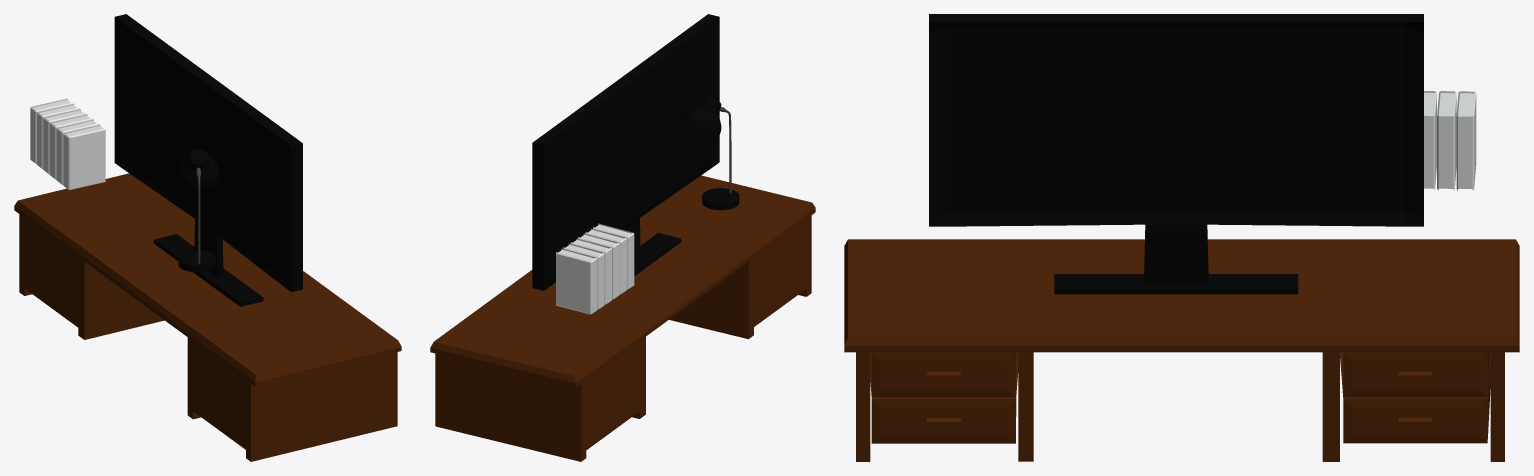
Rendered from tvtable.fbx.
3 renders of one model, left to right at view 1: azimuth 30°, elevation 25°; view 2: azimuth 150°, elevation 25°; view 3: azimuth 270°, elevation 25°, orthographic. The views are drawn at different scales.
Visible parts, largest first — view 1: Cube, Cube.002, Cube.001, base; view 2: Cube, Cube.002, Cube.001, base; view 3: Cube.002, Cube, Cube.001.
Part boxes in pixels (box(x1,y1,x2,y2)): Cube: box(14, 173, 401, 461); Cube.002: box(114, 14, 302, 306); Cube.001: box(30, 98, 105, 190); base: box(176, 149, 219, 272); Cube: box(430, 175, 815, 461); Cube.002: box(532, 14, 719, 290); Cube.001: box(556, 223, 634, 314); base: box(679, 95, 739, 210); Cube.002: box(929, 14, 1423, 294); Cube: box(844, 239, 1519, 461); Cube.001: box(1424, 91, 1476, 190).
Bounding box in the file's own units: 389 × 701 × 1091.
